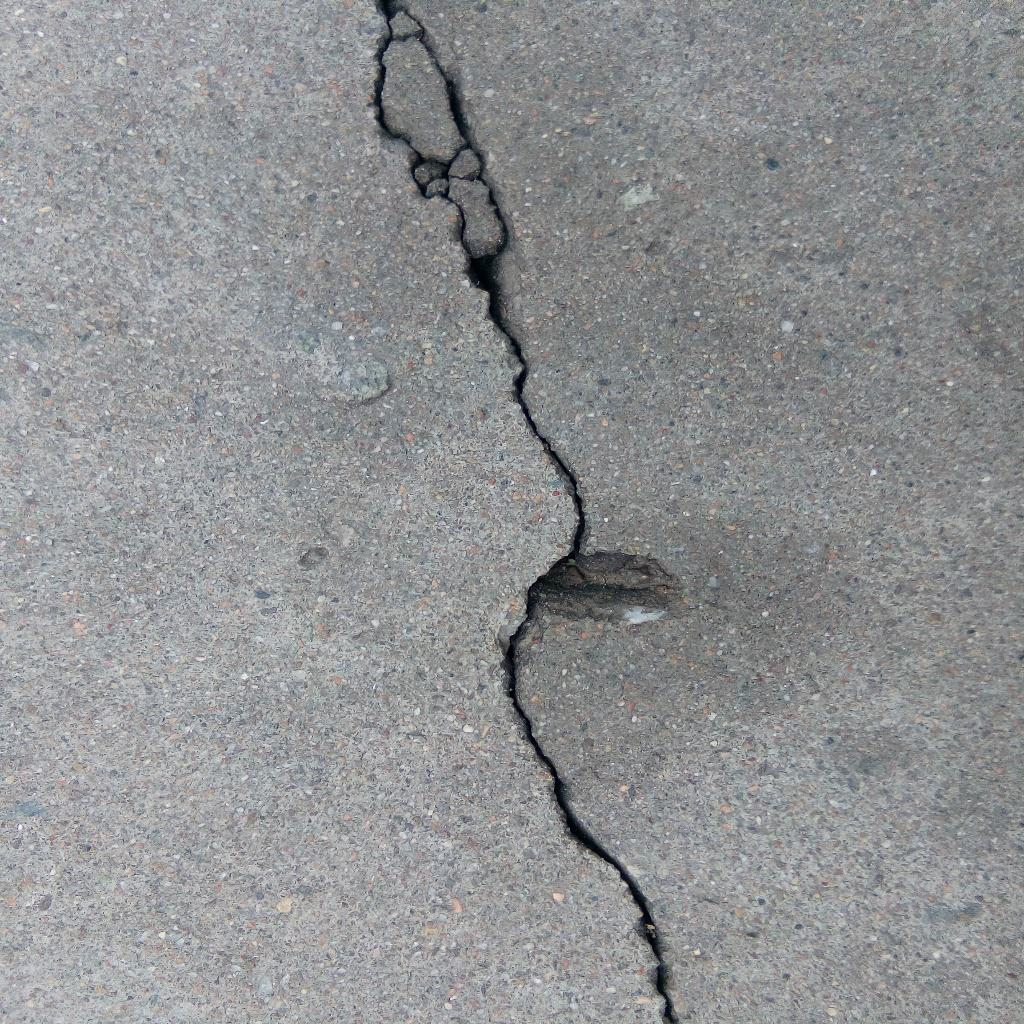Crack: (367, 1, 680, 1024)
Spalling: (532, 550, 680, 629)
